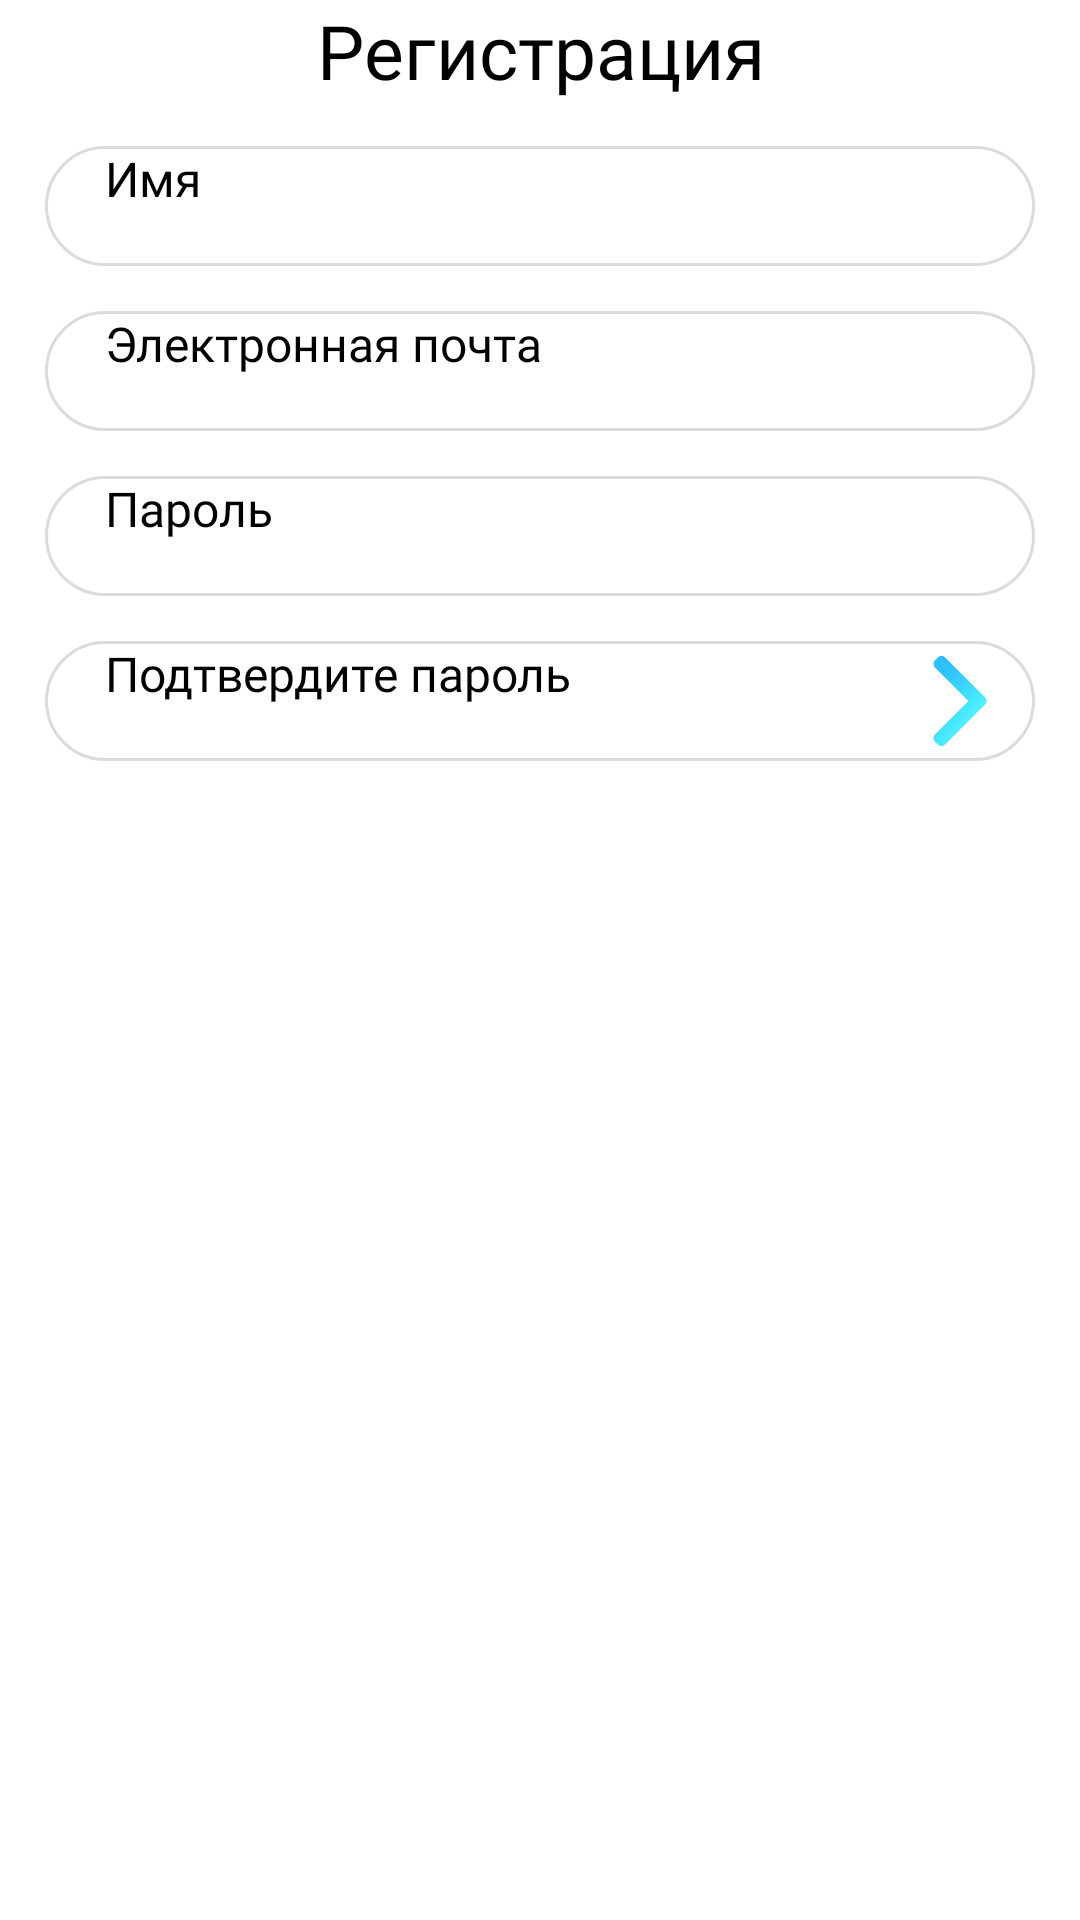

Where icons sit on this 1080*1920 app screen, as (x1=x1, y1=y1, x2=x2, y2=y2):
next: (x1=933, y1=656, x2=987, y2=746)
